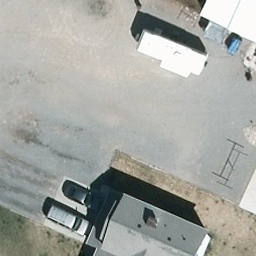camping car: (134, 28, 210, 80)
car: (46, 203, 93, 236), (62, 182, 99, 207)
